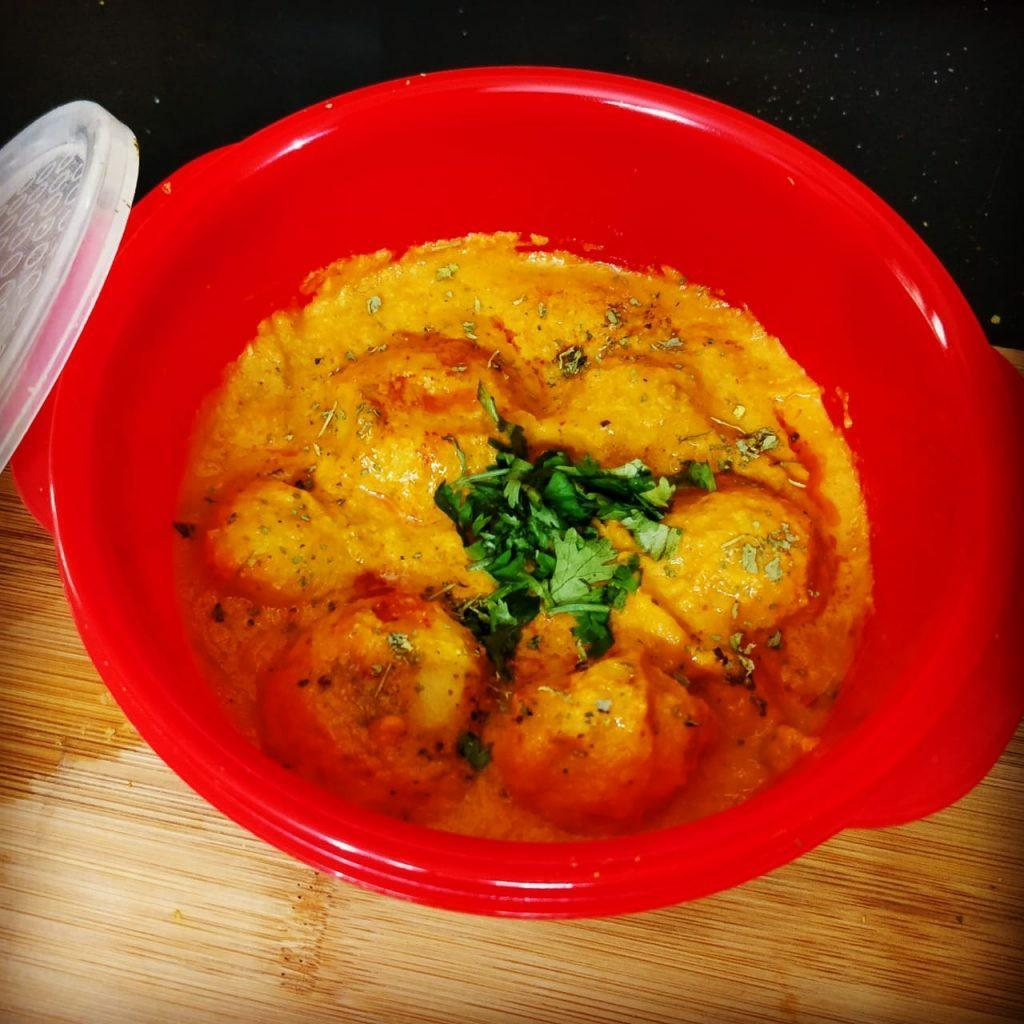DumAloo: (165, 226, 875, 834)
